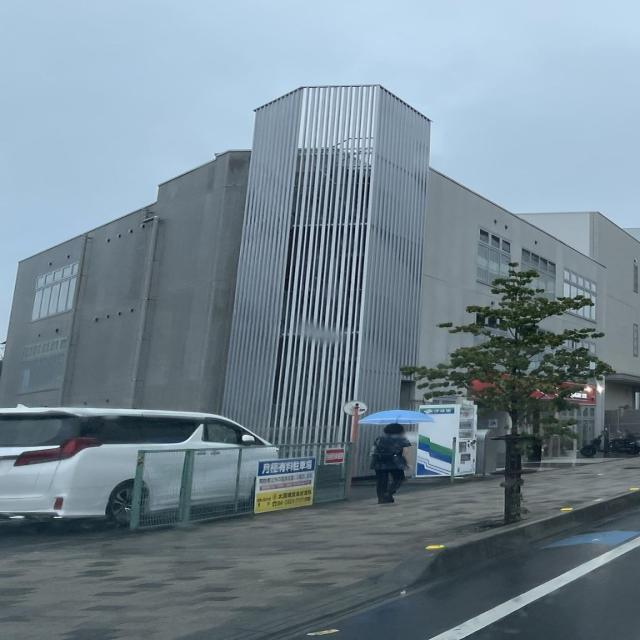dogwood: (398, 261, 616, 525)
